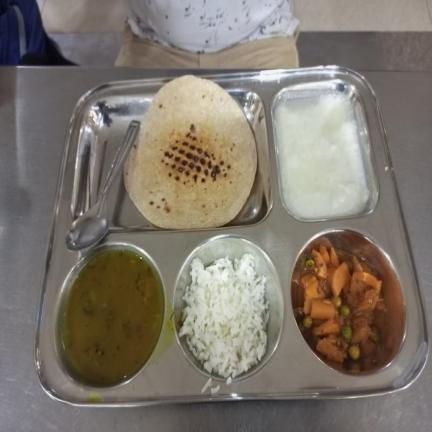Aalu Ki Sabji: (299, 247, 384, 365)
Dahi: (273, 90, 367, 220)
Dal: (62, 250, 163, 385)
Plate: (34, 64, 431, 406)
Rice: (180, 251, 270, 378)
Roti: (123, 73, 260, 231)
